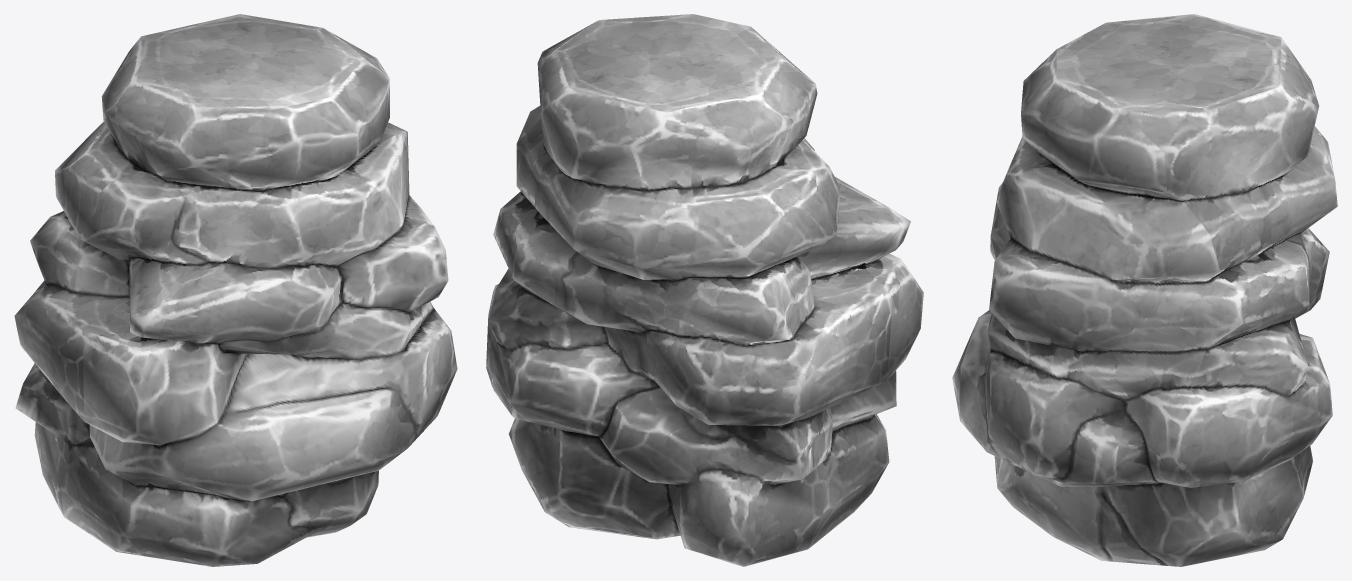
Rendered from SM_Galets_03.fbx.
3 views of the same model, side by side, from view 1: azimuth 30°, elevation 25°; view 2: azimuth 150°, elevation 25°; view 3: azimuth 270°, elevation 25° (orthographic). The views are drawn at different scales.
Parts seen in each view (by area): view 1: SM_GaletsWall_03; view 2: SM_GaletsWall_03; view 3: SM_GaletsWall_03.
Part boxes in pixels (x1=…): SM_GaletsWall_03: x1=14, y1=14, x2=457, y2=566; SM_GaletsWall_03: x1=486, y1=14, x2=923, y2=566; SM_GaletsWall_03: x1=952, y1=14, x2=1337, y2=566.
Bounding box in the file's own units: 185 × 215 × 163.
